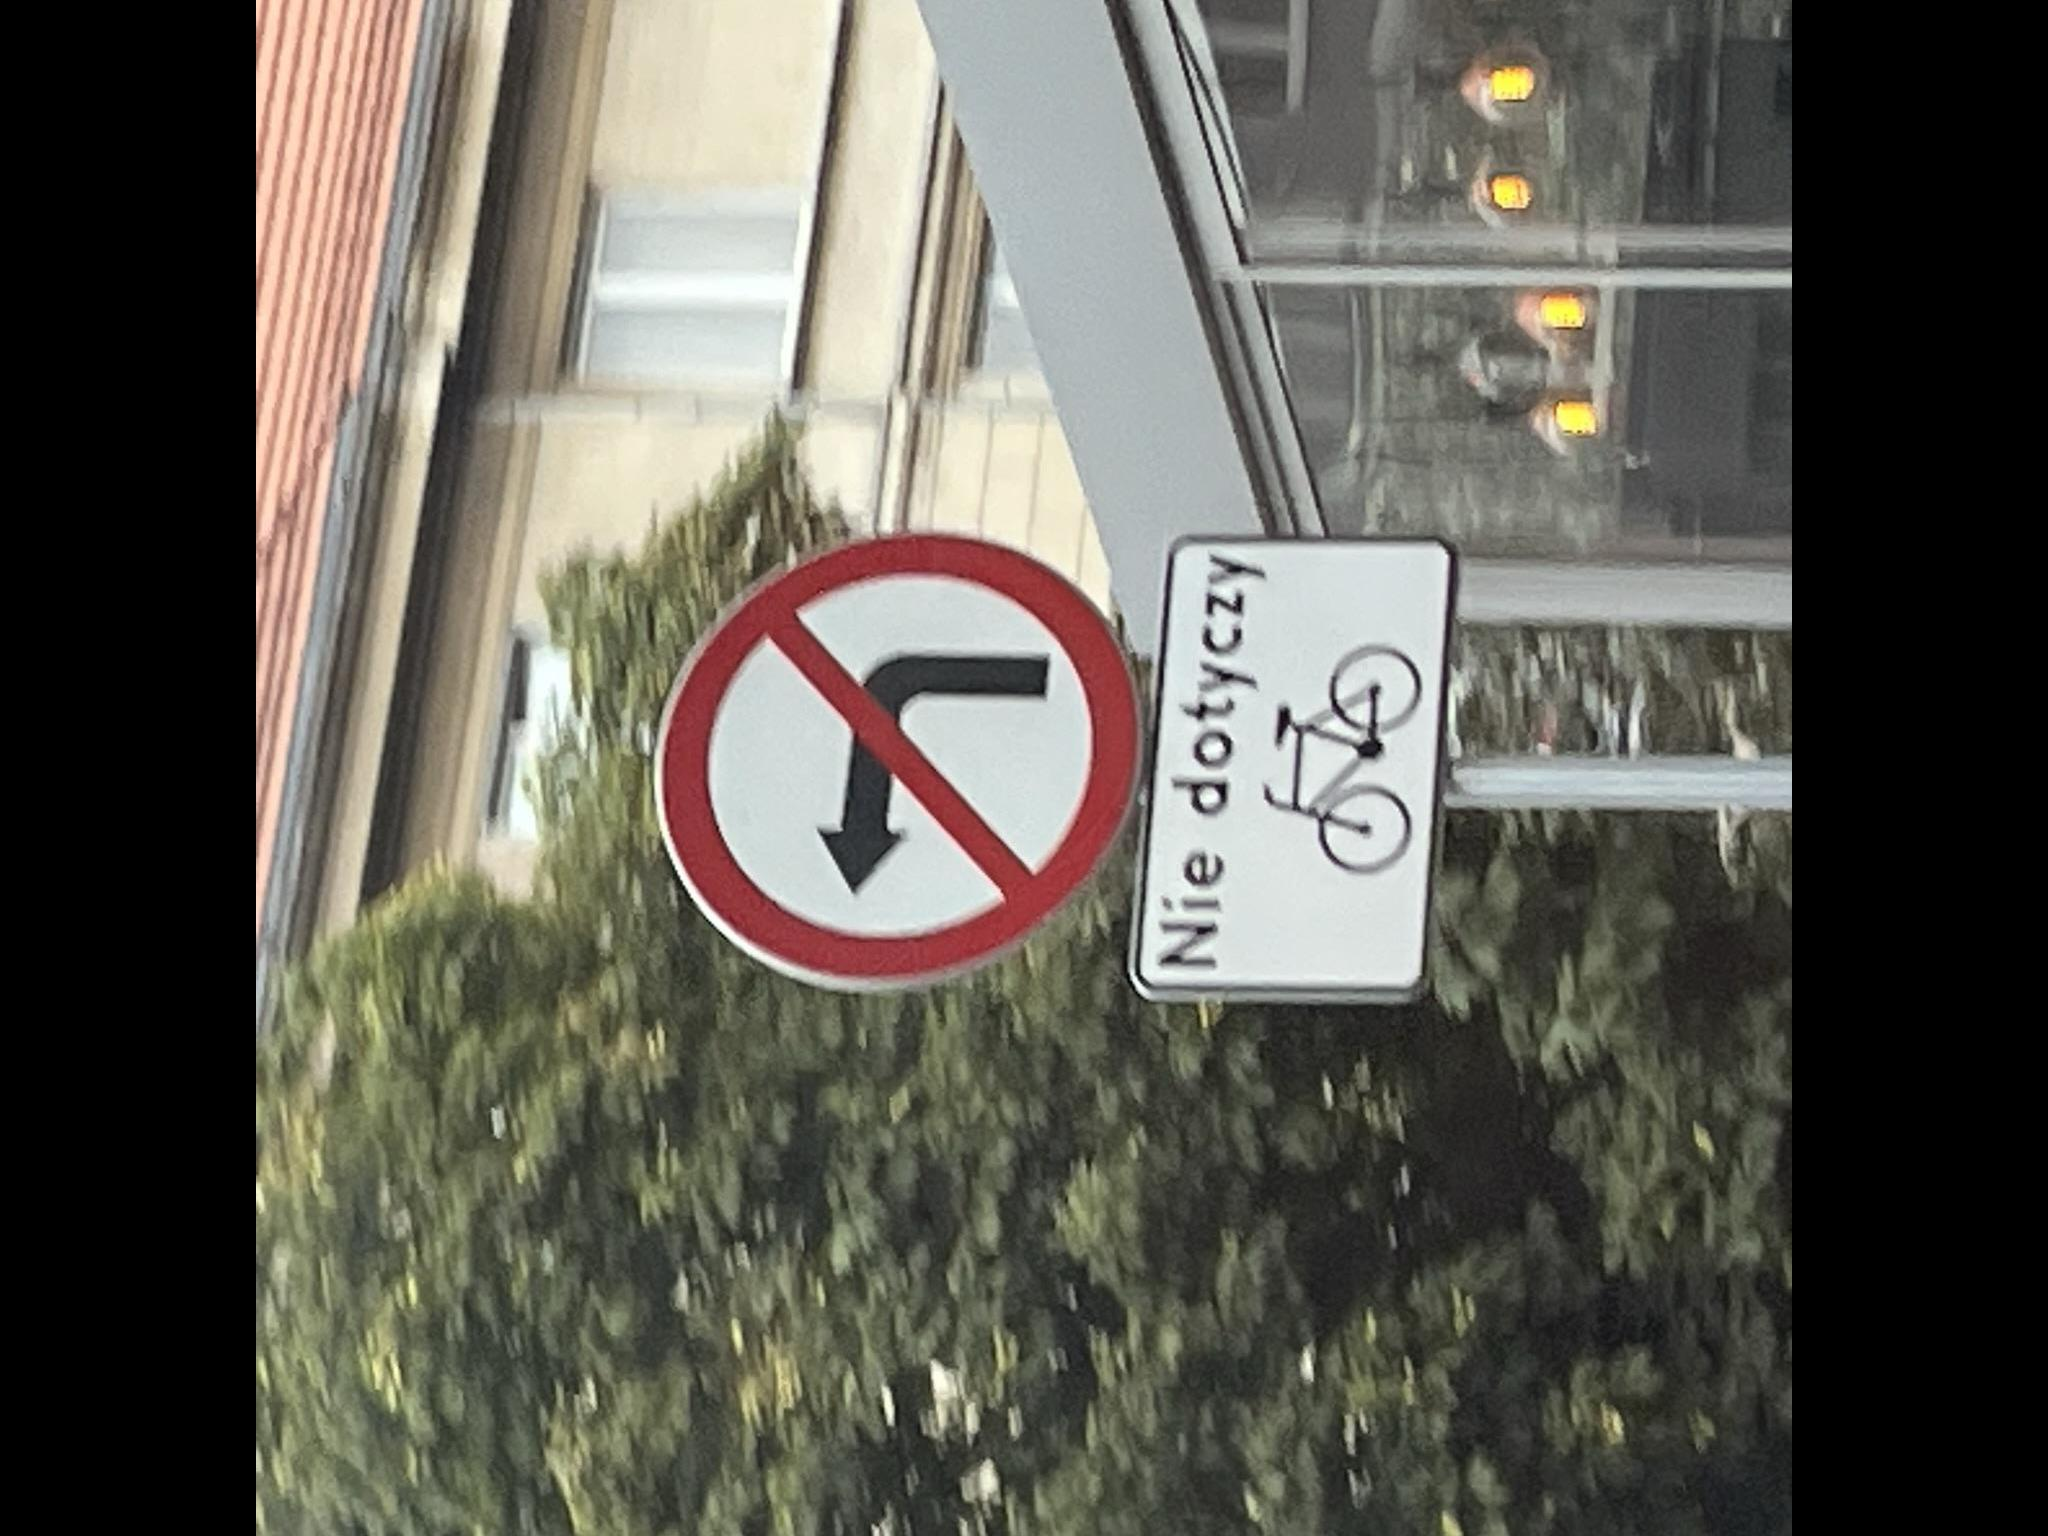other: (1142, 529, 1458, 1000)
prohibitory: (650, 528, 1148, 999)
